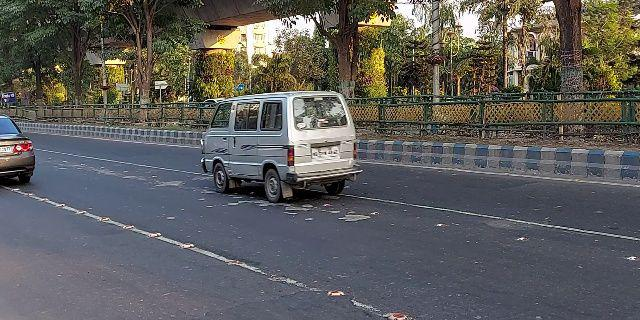Car: (1, 113, 39, 189)
Van: (197, 87, 363, 204)
